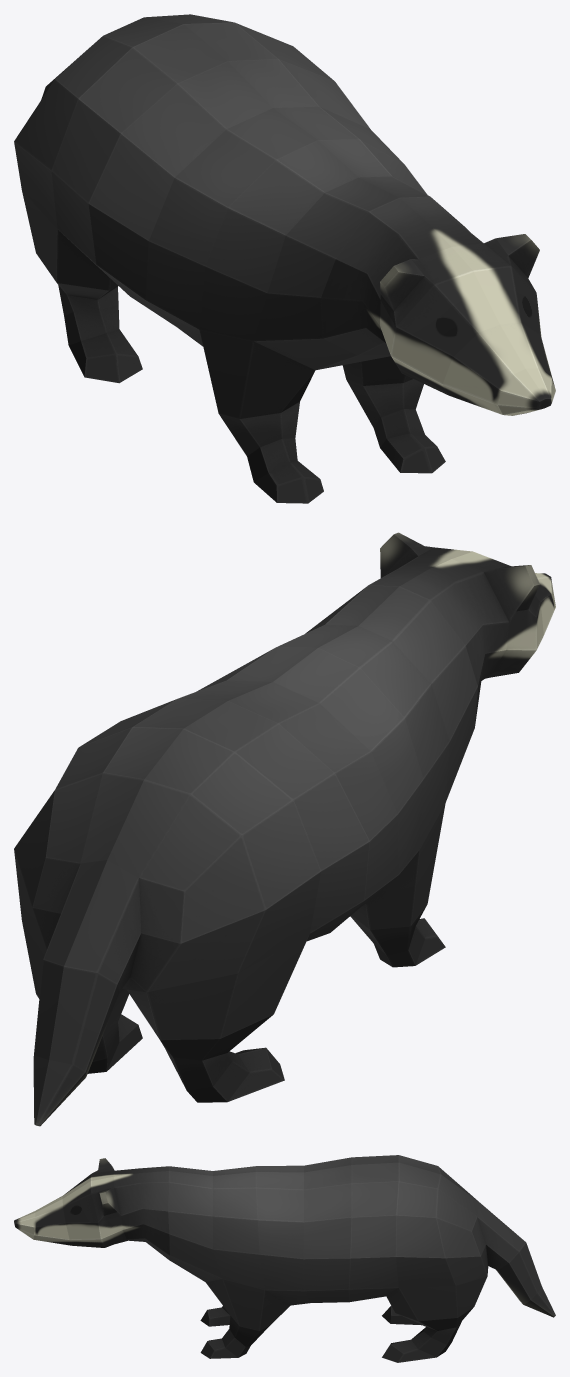
Rendered from badger.glb.
The picture shows the model from 3 angles, top to bottom: view 1: azimuth 30°, elevation 25°; view 2: azimuth 150°, elevation 25°; view 3: azimuth 270°, elevation 25°; orthographic projection. The views are drawn at different scales.
Visible parts, largest first — view 1: Badger:Badger_mesh; view 2: Badger:Badger_mesh; view 3: Badger:Badger_mesh.
Boxes of the visible parts, box(x1,y1,x2,y2) form: Badger:Badger_mesh: box(14, 14, 555, 503); Badger:Badger_mesh: box(14, 532, 555, 1126); Badger:Badger_mesh: box(14, 1155, 555, 1362).
Bounding box in the file's own units: 3.41 × 3.8 × 10.71.
1 material, 1 textured.
